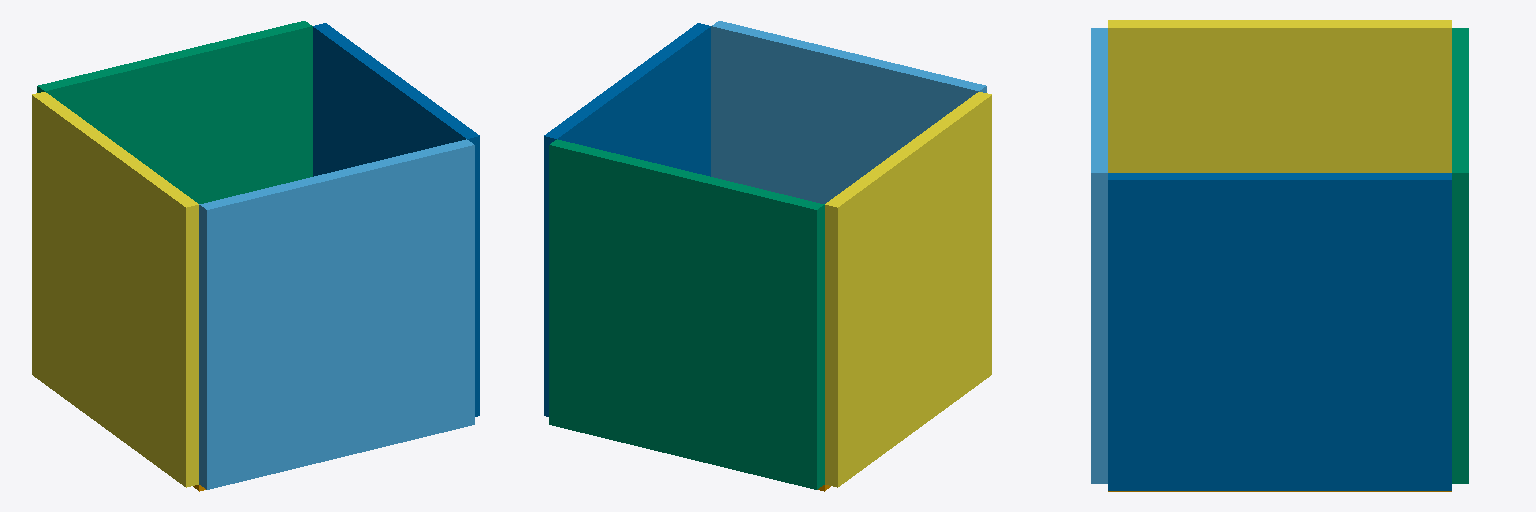
The robot description file, URDF, robot "hollow_box_with_centered_cuboid":
<?xml version="1.0"?>
<robot name="hollow_box_with_centered_cuboid">
  <!-- Base panel -->
  <link name="base_panel">
    <visual>
      <geometry>
        <box size="1.0 1.0 0.05"/>
      </geometry>
    </visual>
  </link>

  <!-- Definition of the side panels -->
  <!-- Each side panel is defined with a slight thickness (0.05 units) -->
  <!-- The panels are positioned to form the sides of the box -->

  <!-- Front panel -->
  <link name="front_panel">
    <visual>
      <geometry>
        <box size="1.0 0.05 1.0"/>
      </geometry>
    </visual>
  </link>

  <!-- Back panel -->
  <link name="back_panel">
    <visual>
      <geometry>
        <box size="1.0 0.05 1.0"/>
      </geometry>
    </visual>
  </link>

  <!-- Left panel -->
  <link name="left_panel">
    <visual>
      <geometry>
        <box size="0.05 1.0 1.0"/>
      </geometry>
    </visual>
  </link>

  <!-- Right panel -->
  <link name="right_panel">
    <visual>
      <geometry>
        <box size="0.05 1.0 1.0"/>
      </geometry>
    </visual>
  </link>
  <!-- Centered cuboid -->
  <link name="centered_cuboid">
    <visual>
      <geometry>
        <box size="0.25 0.25 0.25"/>
      </geometry>
      <material name="blue">
        <color rgba="0.9 0.2 0.1 1"/>
      </material>
    </visual>
  </link>

  <!-- Adjusted joint for the centered cuboid to rest at the base -->
  <joint name="cuboid_joint" type="fixed">
    <parent link="base_panel"/>
    <child link="centered_cuboid"/>
    <!-- Since we want the cuboid to rest on the base, the z-value is half the height of the cuboid -->
    <origin xyz="0 0 0.25" rpy="0 0 0"/>
  </joint>
  <!-- Fixed joints to position the panels relative to the base panel -->
  <!-- Each joint positions and orients a side panel to form the box -->

  <joint name="front_joint" type="fixed">
    <parent link="base_panel"/>
    <child link="front_panel"/>
    <origin xyz="0 -0.525 0.5" rpy="0 0 0"/>
  </joint>

  <joint name="back_joint" type="fixed">
    <parent link="base_panel"/>
    <child link="back_panel"/>
    <origin xyz="0 0.525 0.5" rpy="0 0 0"/>
  </joint>

  <joint name="left_joint" type="fixed">
    <parent link="base_panel"/>
    <child link="left_panel"/>
    <origin xyz="-0.525 0 0.5" rpy="0 0 0"/>
  </joint>

  <joint name="right_joint" type="fixed">
    <parent link="base_panel"/>
    <child link="right_panel"/>
    <origin xyz="0.525 0 0.5" rpy="0 0 0"/>
  </joint>

</robot>

--- Facts derived from the render (not from the file) ---
Views: 3 orthographic renders of the robot side by side, from view 1: azimuth 30°, elevation 25°; view 2: azimuth 150°, elevation 25°; view 3: azimuth 270°, elevation 25°.
Model hollow_box_with_centered_cuboid with 6 links and 5 joints (5 fixed), rooted at base_panel, posed all joints at 0.
Links seen in each view (by area): view 1: front_panel, left_panel, back_panel, right_panel; view 2: back_panel, left_panel, front_panel, right_panel; view 3: right_panel, left_panel, front_panel, back_panel.
Boxes of the visible links, bbox=[...] form: front_panel: bbox=[199, 139, 474, 489]; left_panel: bbox=[32, 92, 198, 487]; back_panel: bbox=[37, 21, 312, 203]; right_panel: bbox=[313, 23, 479, 416]; back_panel: bbox=[549, 139, 824, 489]; left_panel: bbox=[825, 92, 991, 487]; front_panel: bbox=[711, 21, 986, 203]; right_panel: bbox=[544, 23, 710, 416]; right_panel: bbox=[1108, 173, 1451, 490]; left_panel: bbox=[1108, 20, 1451, 172]; front_panel: bbox=[1091, 28, 1107, 483]; back_panel: bbox=[1452, 28, 1468, 483].
Bounding box of the posed robot: 1.1 × 1.1 × 1.02 m (x, y, z).
Geometry: primitives only (box / cylinder / sphere), no mesh files.